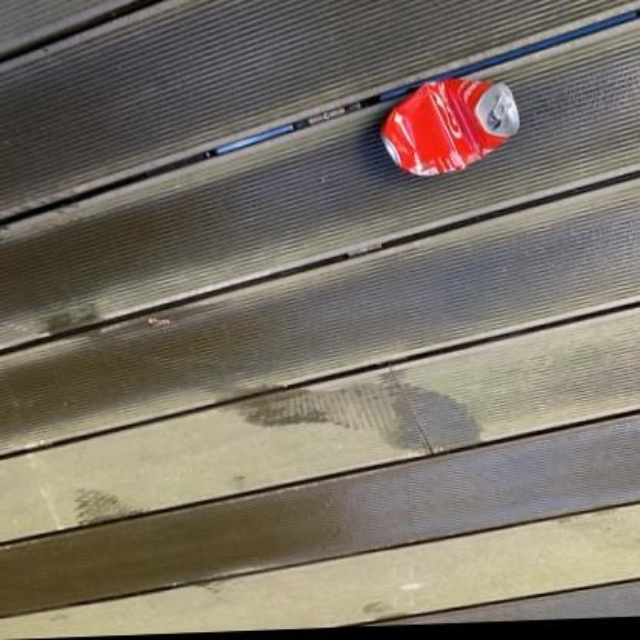trash: (382, 78, 518, 174)
